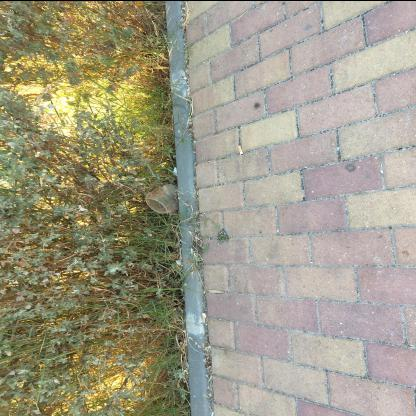plastik: (146, 183, 180, 213)
